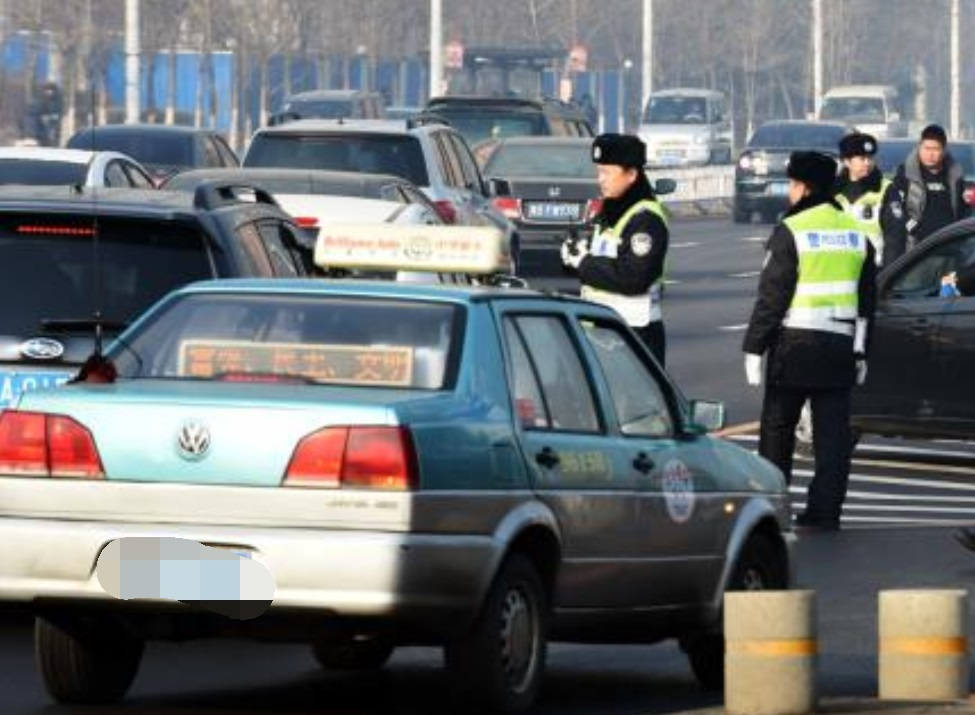taxi: (3, 214, 799, 697)
